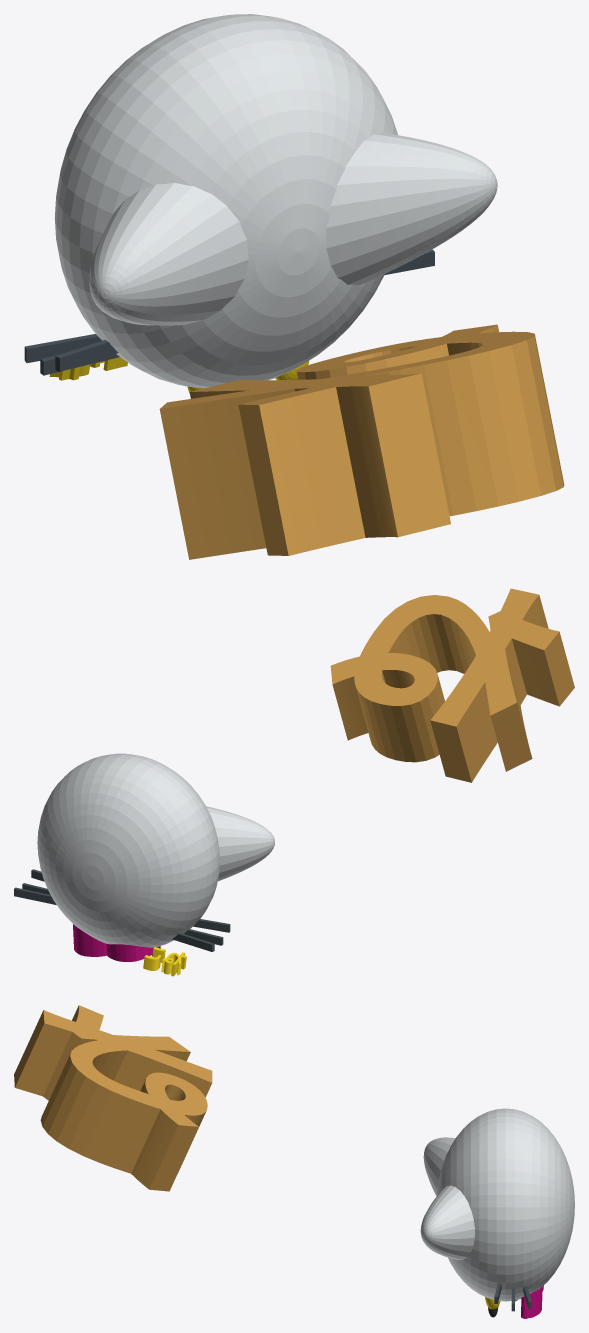
File: tinker.obj
3 renders of one model, top to bottom at view 1: azimuth 30°, elevation 25°; view 2: azimuth 150°, elevation 25°; view 3: azimuth 270°, elevation 25°, orthographic. The views are drawn at different scales.
Parts seen in each view (by area): view 1: group_0_14541540, group_0_13671242, group_0_4477015, group_0_16768282; view 2: group_0_14541540, group_0_13671242, group_0_4477015, group_0_14093196, group_0_16768282; view 3: group_0_13671242, group_0_14541540, group_0_14093196.
Part boxes in pixels (x1=…): group_0_14541540: x1=54, y1=14, x2=497, y2=388; group_0_13671242: x1=159, y1=324, x2=564, y2=559; group_0_4477015: x1=24, y1=249, x2=434, y2=375; group_0_16768282: x1=49, y1=357, x2=309, y2=393; group_0_14541540: x1=37, y1=753, x2=274, y2=947; group_0_13671242: x1=330, y1=588, x2=574, y2=782; group_0_4477015: x1=14, y1=869, x2=230, y2=951; group_0_14093196: x1=73, y1=924, x2=153, y2=961; group_0_16768282: x1=143, y1=946, x2=186, y2=976; group_0_13671242: x1=14, y1=1005, x2=212, y2=1191; group_0_14541540: x1=420, y1=1108, x2=574, y2=1301; group_0_14093196: x1=515, y1=1285, x2=543, y2=1318.
Bounding box in the file's own units: 45 × 31 × 72.7.
